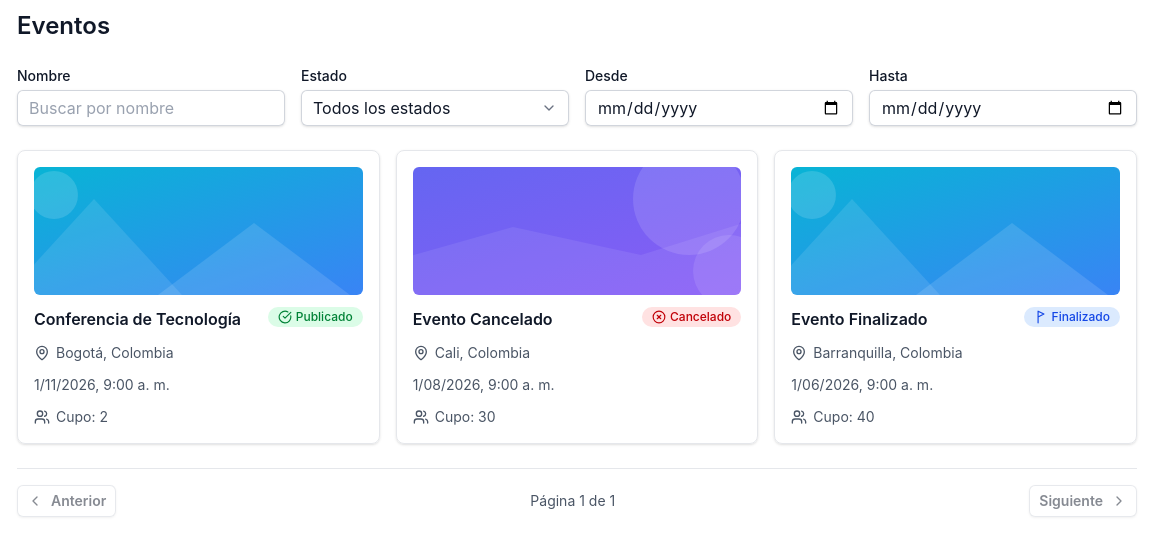
Scenario: EventsListPage › muestra un estado vacío cuando el filtro no encuentra resultados
This screenshot has width=1154, height=534.
Expected: the heading "Conferencia de Tecnología" is shown, [34,307,241,331]
Type "NoExisteNingunEvento" into the field labelled "Nombre". click: (151, 108)
box: [17,90,285,126]
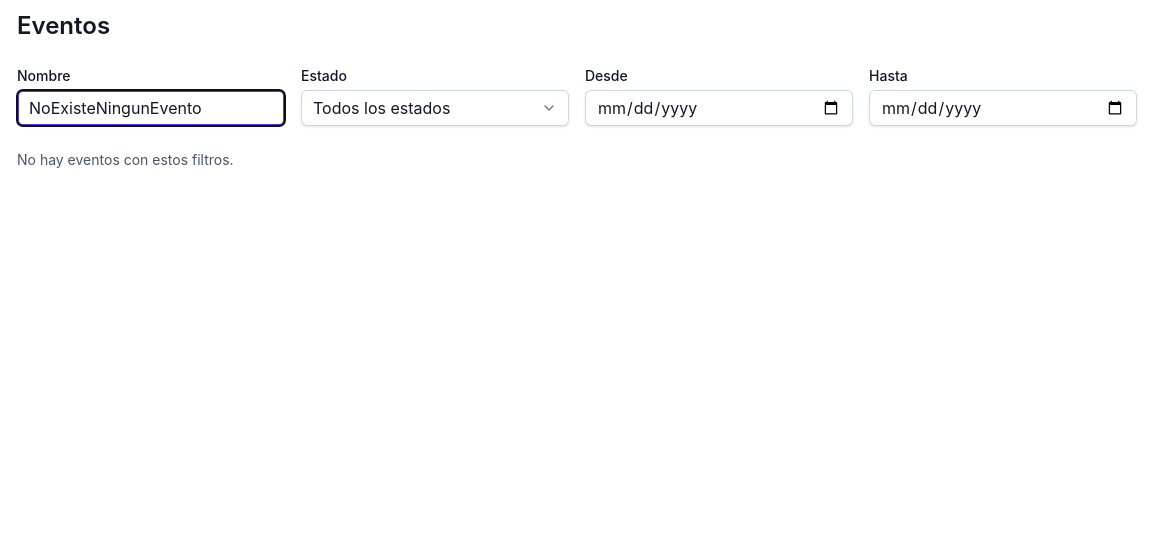
Expected: the text "No hay eventos con estos filtros." is shown, [17,151,234,168]
